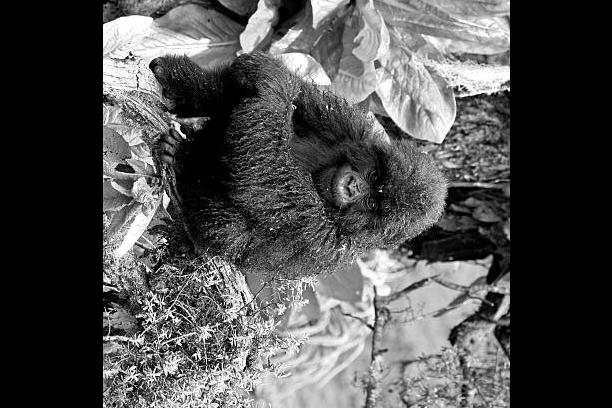goriile_montagne: (159, 64, 454, 288)
